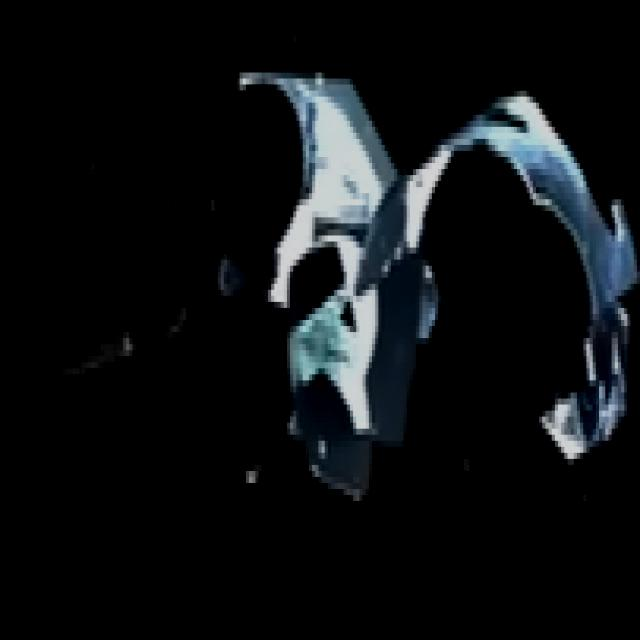large_debris: (214, 47, 634, 503)
medium_debris: (48, 301, 190, 390)
small_debris: (244, 515, 286, 552), (140, 11, 176, 50), (74, 145, 107, 184), (31, 237, 69, 270), (449, 447, 481, 483), (157, 177, 183, 217)
